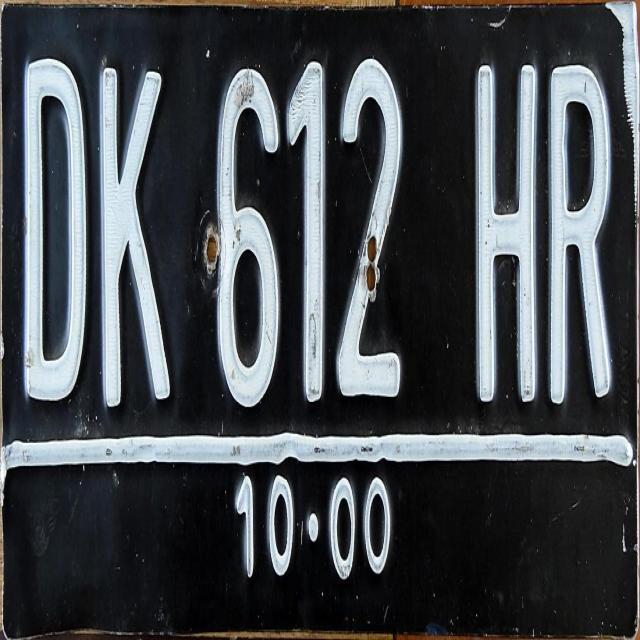1: (288, 49, 332, 410)
2: (333, 46, 403, 408)
6: (217, 49, 287, 412)
D: (17, 41, 92, 416)
H: (471, 44, 542, 423)
K: (92, 40, 178, 418)
R: (544, 43, 618, 416)
